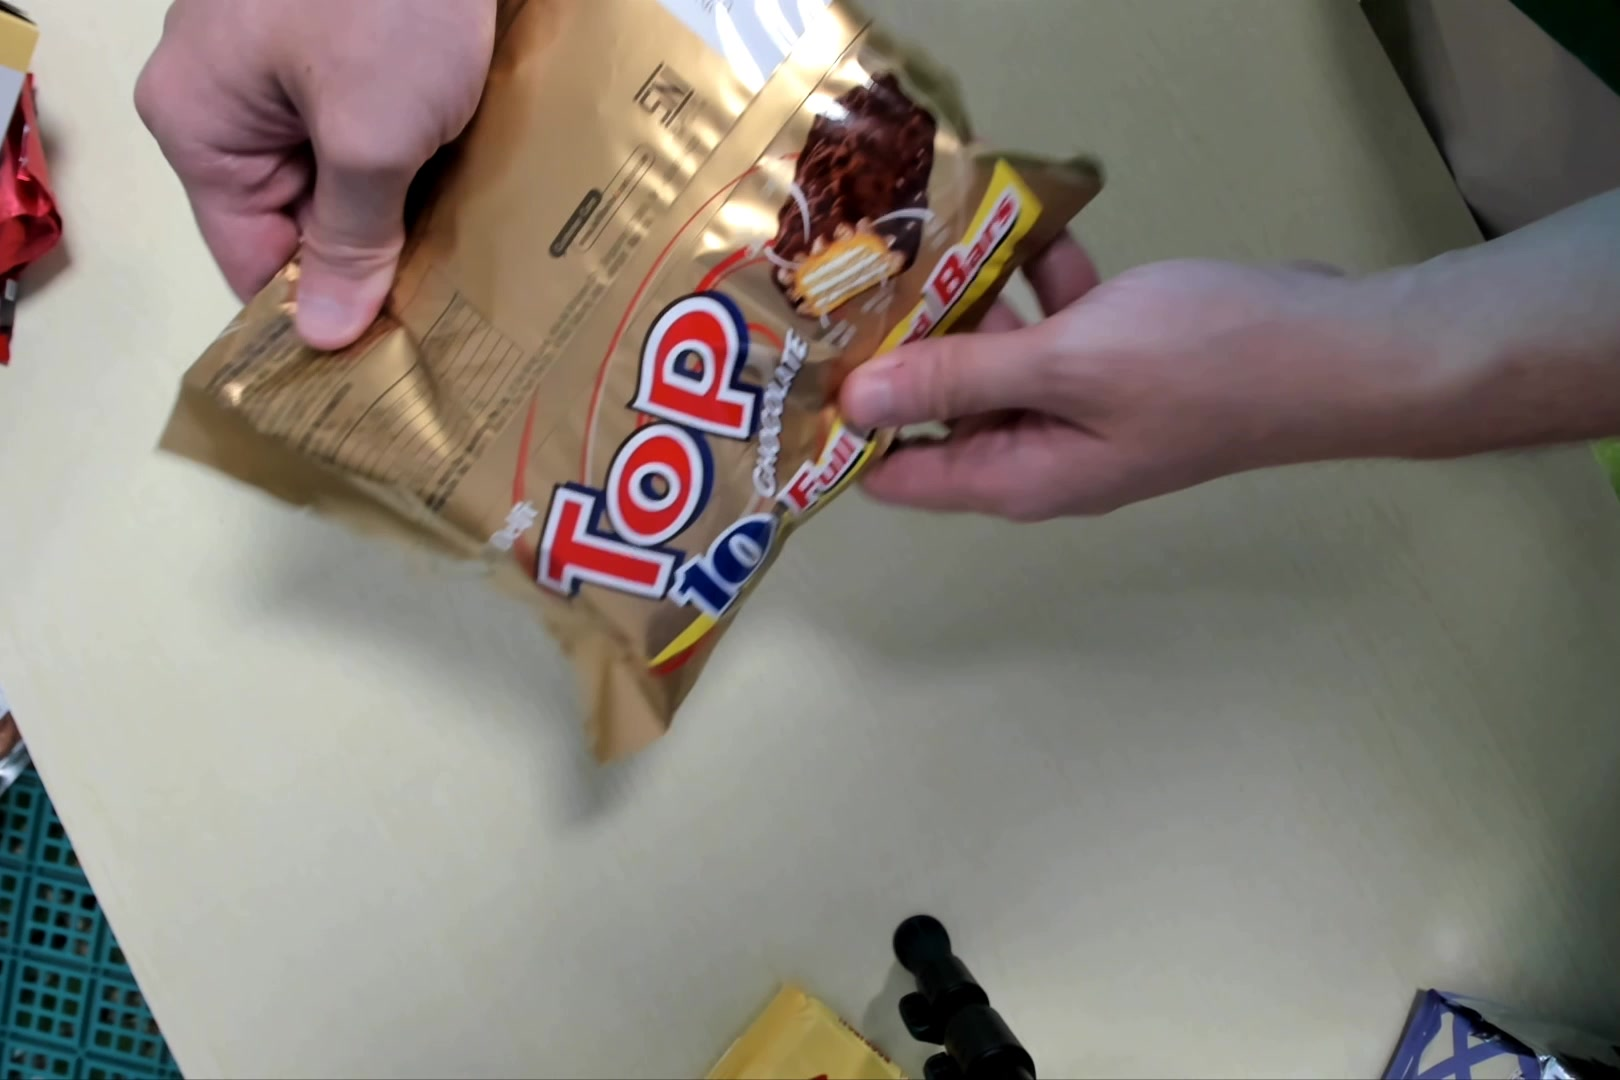SweetsChocolatesOthers_100-199g_NonHalal_NonHealthy: (155, 4, 1097, 741)
